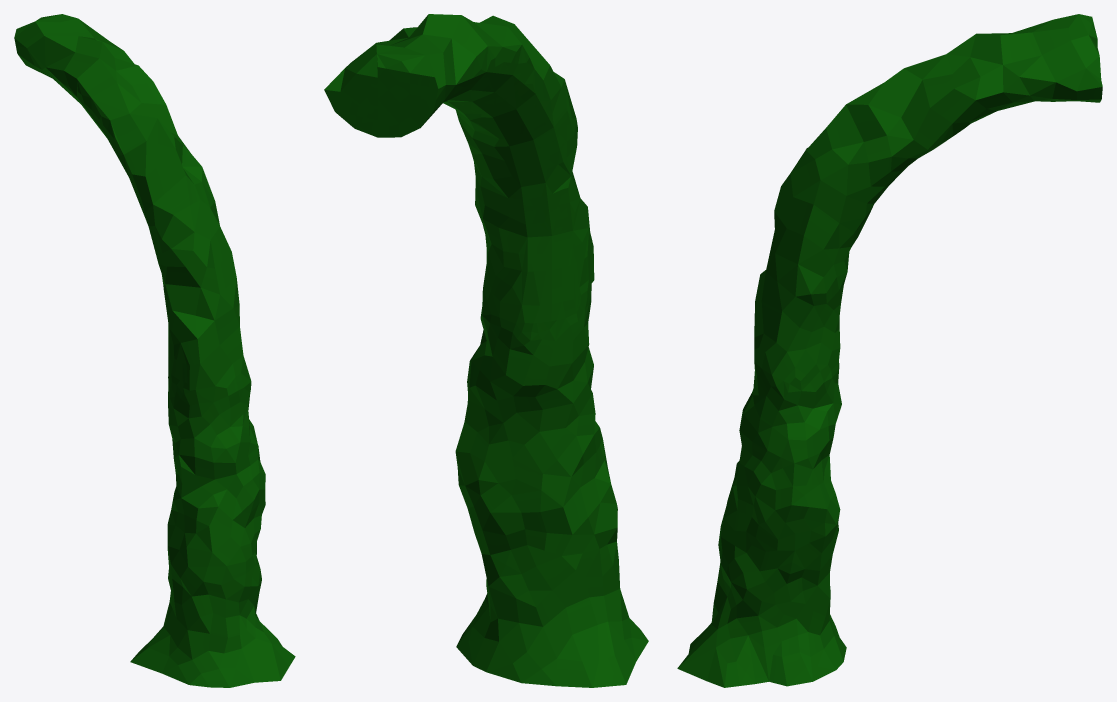
Rendered from shiyou.fbx.
3 renders of one model, left to right at view 1: azimuth 30°, elevation 25°; view 2: azimuth 150°, elevation 25°; view 3: azimuth 270°, elevation 25°, orthographic. The views are drawn at different scales.
Visible parts, largest first — view 1: huitugou_2331_04; view 2: huitugou_2331_04; view 3: huitugou_2331_04.
Boxes of the visible parts, box(x1,y1,x2,y2) form: huitugou_2331_04: box(14, 14, 295, 687); huitugou_2331_04: box(324, 14, 648, 687); huitugou_2331_04: box(677, 14, 1102, 687).
Bounding box in the file's own units: 85.21 × 342 × 214.
